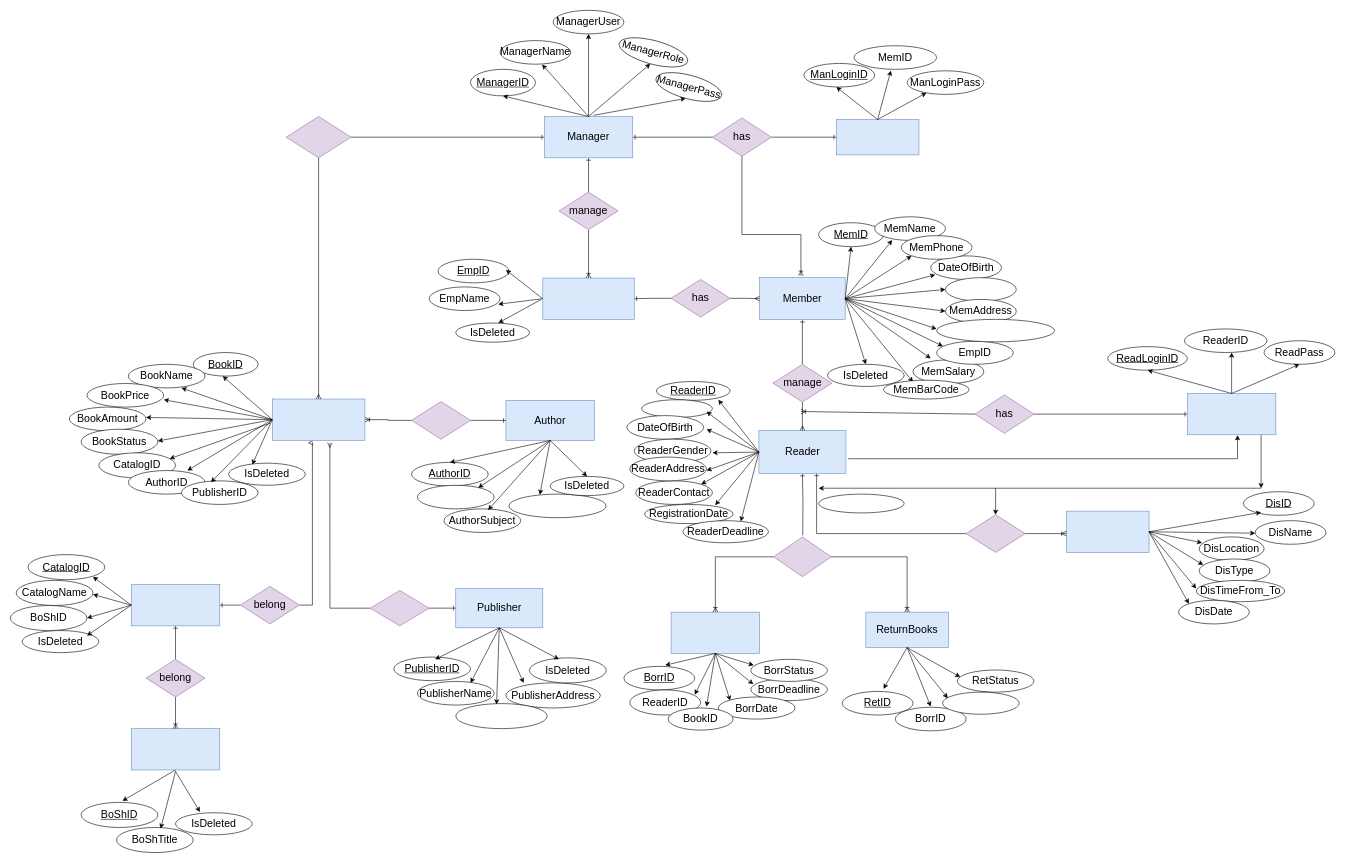
This 1345x863 diagram has some shape labels left out. The centre of each missing label's shape, as x and y in pixels:
AuthorName: (455,497)
AuthorQualification: (557,506)
Books: (318,419)
BookShelf: (175,749)
borrow/ retrun: (802,556)
BorrowBooks: (715,632)
CatalogOfBooks: (175,605)
DiscussionRoom: (1107,531)
Employee: (588,298)
manage Library: (318,137)
ManagerLogin: (877,137)
MemGender: (980,289)
MemRegistrationDate: (995,330)
publish: (399,608)
PublisherContact: (501,716)
ReaderBarCode: (861,503)
ReaderLogin: (1231,414)
ReaderName: (676,408)
register: (995,533)
RetDeadline: (980,703)
written by: (441,420)
